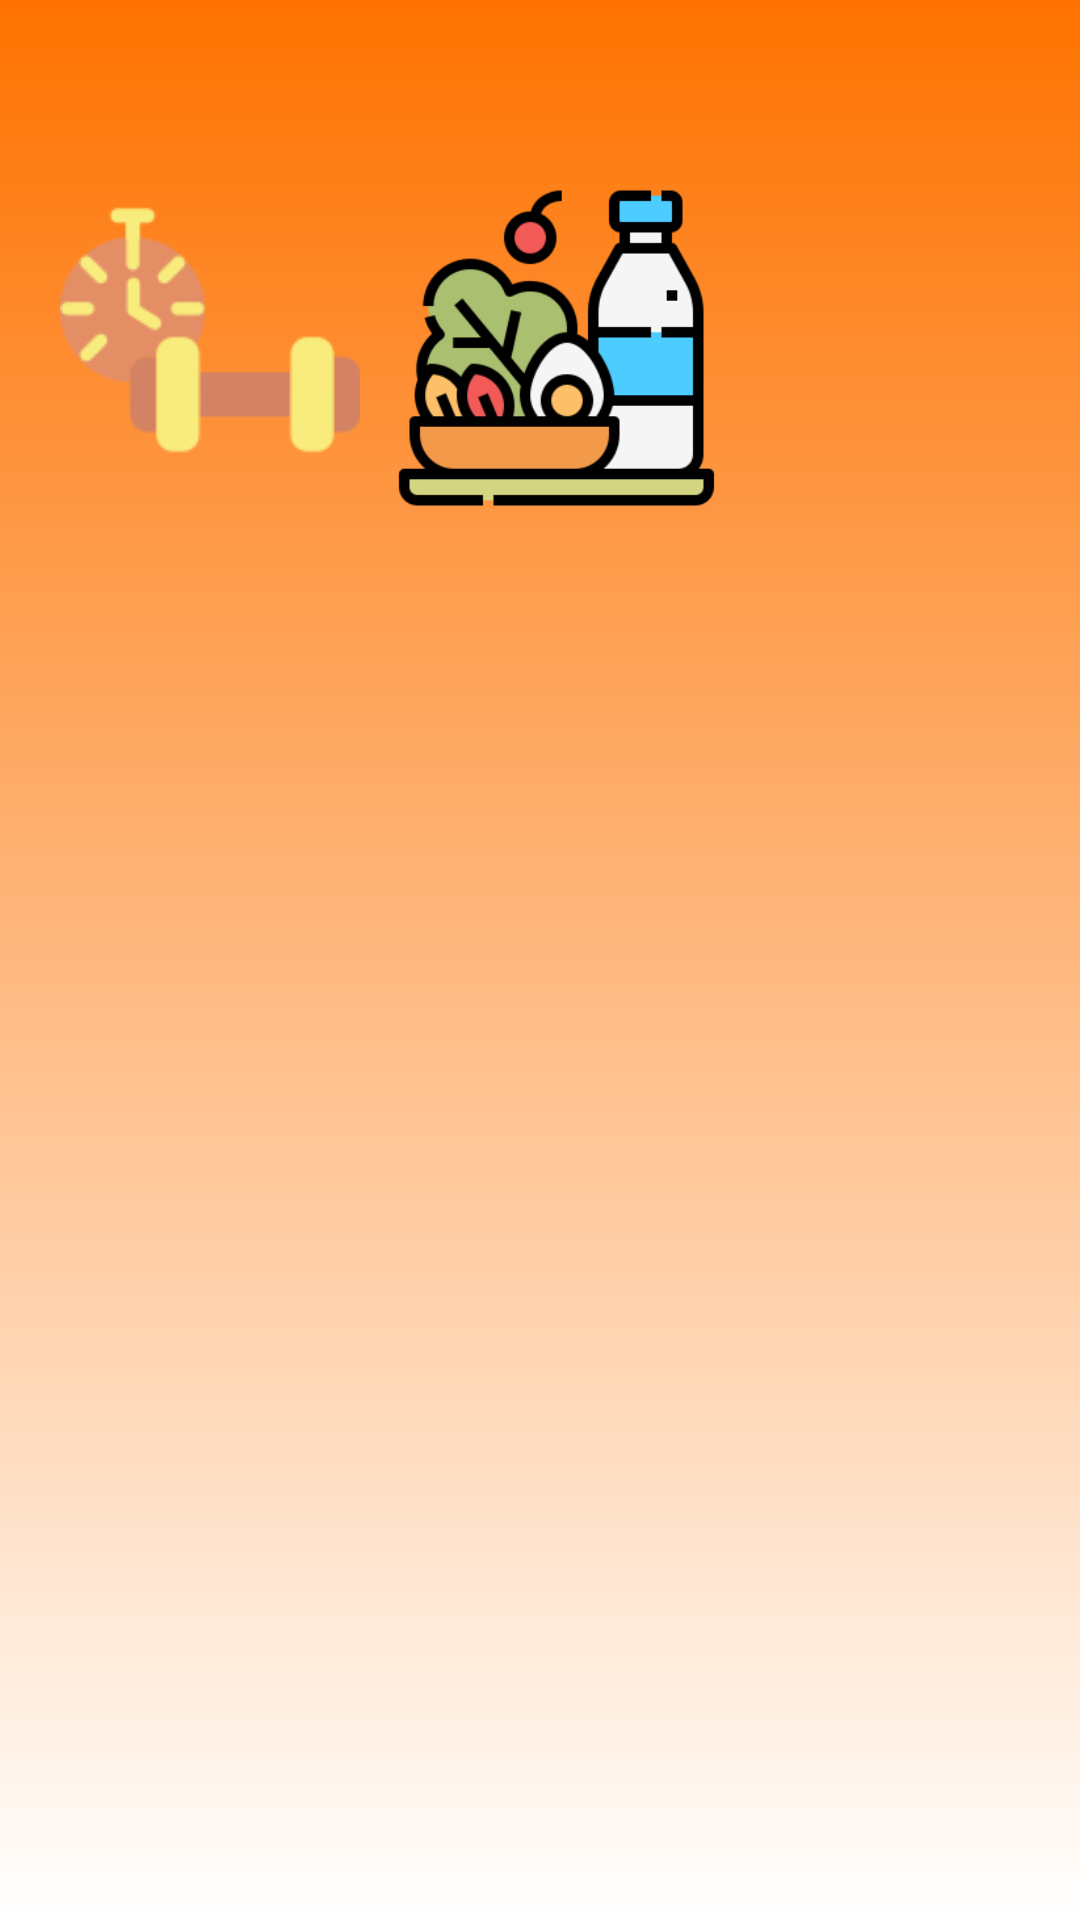

Where to tap for icons on this 1080*1920 app screen, as (x,y):
gym: (210,330)
